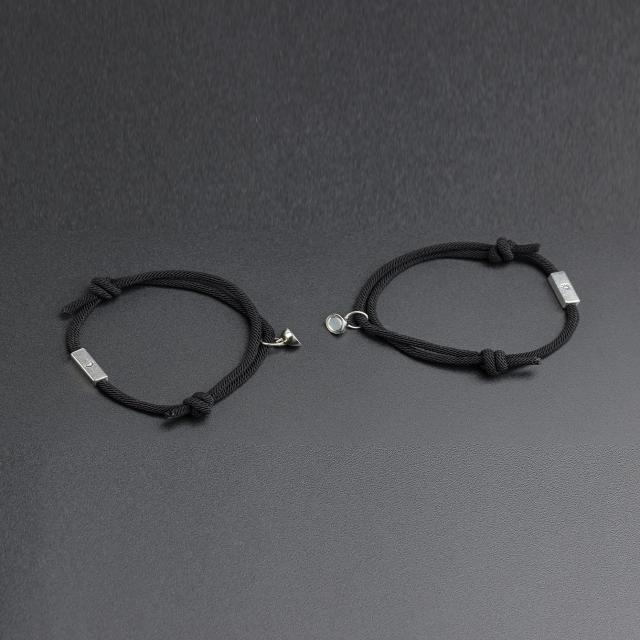bracelet: (333, 219, 640, 463), (29, 218, 327, 459)
